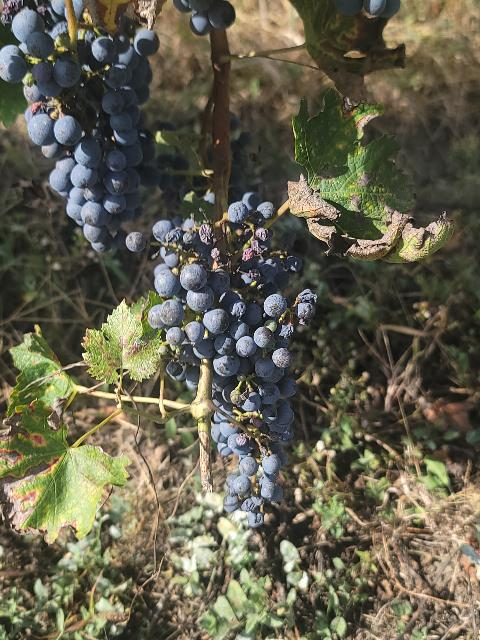grapes: (150, 192, 316, 529), (0, 2, 159, 251)
